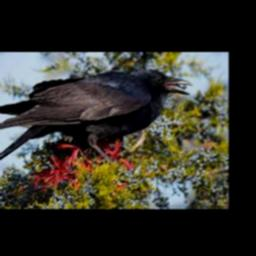Crow: (0, 70, 193, 166)
